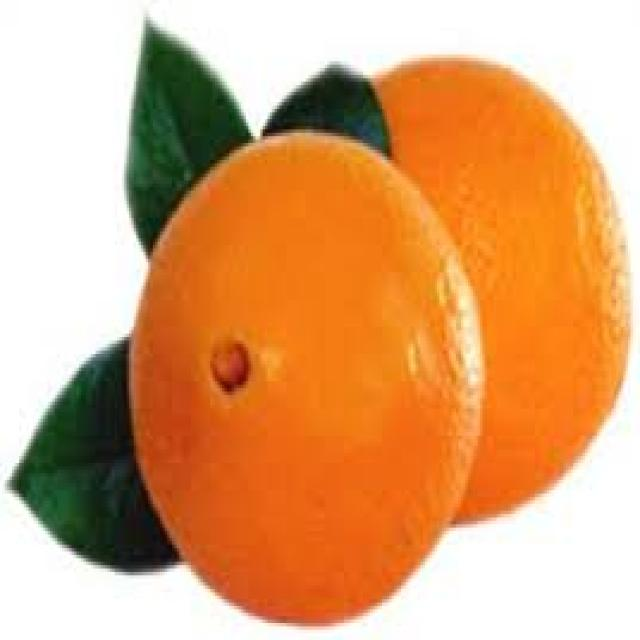Good_Orange: (127, 126, 485, 626), (370, 54, 630, 528)
